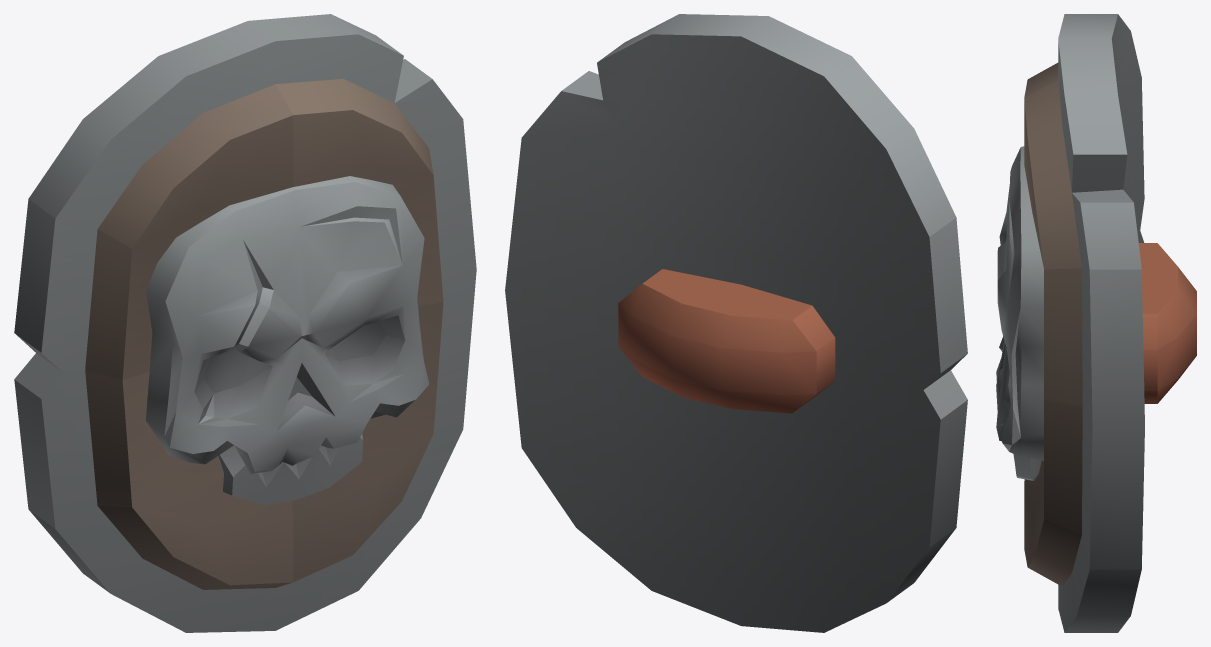
Rendered from Skeleton Shield.glb.
3 views of the same model, side by side, from view 1: azimuth 30°, elevation 25°; view 2: azimuth 150°, elevation 25°; view 3: azimuth 270°, elevation 25° (orthographic). The views are drawn at different scales.
Parts seen in each view (by area): view 1: Skeleton_Shield_Large_A; view 2: Skeleton_Shield_Large_A; view 3: Skeleton_Shield_Large_A.
Boxes of the visible parts, <box> form: Skeleton_Shield_Large_A: <box>14,14,476,632</box>; Skeleton_Shield_Large_A: <box>505,14,967,632</box>; Skeleton_Shield_Large_A: <box>996,14,1196,632</box>.
Size of the model in its own units: 0.8771 by 1.13 by 0.3625.
Materials: 1 (1 with a texture image).
